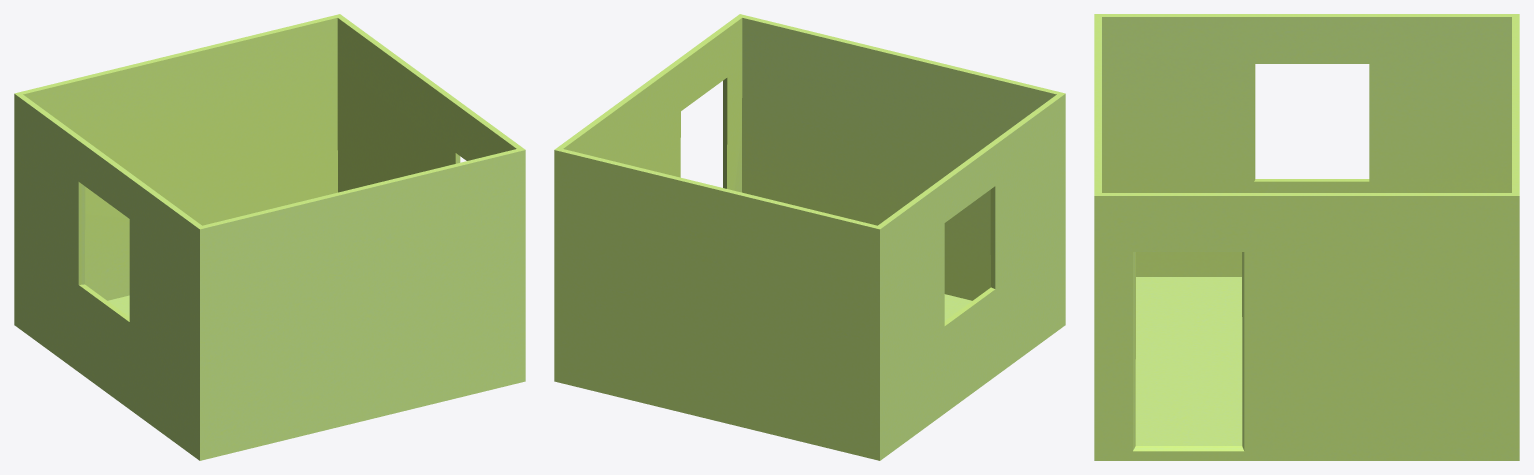
The model's file is empty_room_base.glb.
3 renders of one model, left to right at view 1: azimuth 30°, elevation 25°; view 2: azimuth 150°, elevation 25°; view 3: azimuth 270°, elevation 25°, orthographic. The views are drawn at different scales.
Parts seen in each view (by area): view 1: szoba_0; view 2: szoba_0; view 3: szoba_0.
Part boxes in pixels (box(x1,y1,x2,y2)): szoba_0: box(14, 14, 525, 460); szoba_0: box(554, 14, 1065, 460); szoba_0: box(1094, 14, 1519, 460).
Bounding box in the file's own units: 24.56 × 16.67 × 24.25.
Materials: 1 (1 with a texture image).
